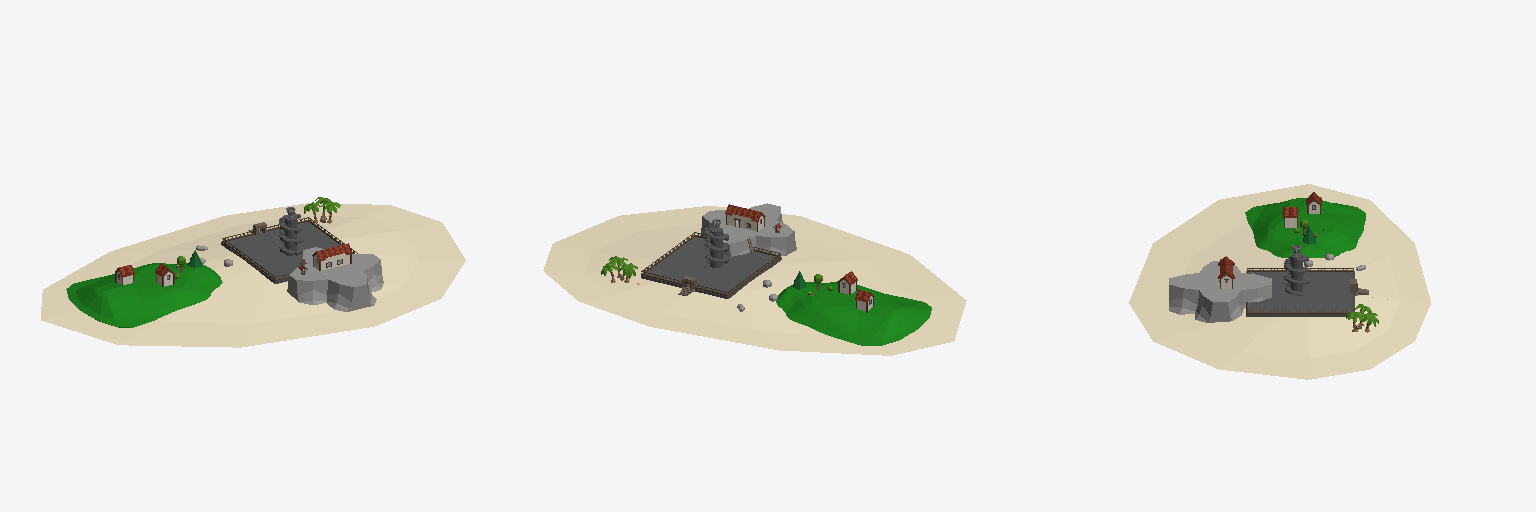
File: daltonga_base.obj
The picture shows the model from 3 angles: view 1: azimuth 30°, elevation 25°; view 2: azimuth 150°, elevation 25°; view 3: azimuth 270°, elevation 25°; orthographic projection.
Parts seen in each view (by area): view 1: Sand_Corner_Outer_3x3_9, Sand_Corner_Outer_3x3_12, Sand_Corner_Outer_3x3_4, Sand_Corner_Outer_3x3_3, struct_floor_normal_43, Hill_Side_Transition_From_Gentle_190, Cliff_Base_Corner_Inner_Lg_151, Cliff_Base_Corner_Inner_Lg_152, Hill_Side_Transition_From_Gentle_192, Hill_Corner_Outer_2x2_191, Hill_Side_Transition_From_Gentle_186, Hill_Corner_Outer_2x2_188; view 2: Sand_Corner_Outer_3x3_9, Sand_Corner_Outer_3x3_4, Sand_Corner_Outer_3x3_3, Sand_Corner_Outer_3x3_12, struct_floor_normal_43, Hill_Side_Transition_From_Gentle_186, Cliff_Base_Corner_Inner_Lg_148, Hill_Side_Transition_From_Gentle_187, Hill_Corner_Outer_2x2_188, Hill_Side_Transition_From_Gentle_190, Hill_Corner_Outer_2x2_191; view 3: Sand_Corner_Outer_3x3_12, Sand_Corner_Outer_3x3_9, Sand_Corner_Outer_3x3_3, Sand_Corner_Outer_3x3_4, struct_floor_normal_43, Cliff_Base_Corner_Inner_Lg_152, Cliff_Base_Corner_Inner_Lg_147, Hill_Side_Transition_From_Gentle_186, Hill_Side_Transition_From_Gentle_190, Hill_Side_Transition_From_Gentle_192, Hill_Side_Transition_From_Gentle_187, Cliff_Base_Corner_Inner_Lg_151.
Boxes of the visible parts, x1,y1,x2,y2 form: Sand_Corner_Outer_3x3_9: [41, 260, 374, 347]; Sand_Corner_Outer_3x3_12: [337, 222, 465, 325]; Sand_Corner_Outer_3x3_4: [41, 216, 250, 319]; Sand_Corner_Outer_3x3_3: [224, 203, 440, 238]; struct_floor_normal_43: [221, 222, 339, 283]; Hill_Side_Transition_From_Gentle_190: [104, 279, 190, 326]; Cliff_Base_Corner_Inner_Lg_151: [293, 268, 360, 311]; Cliff_Base_Corner_Inner_Lg_152: [335, 257, 383, 308]; Hill_Side_Transition_From_Gentle_192: [175, 267, 219, 305]; Hill_Corner_Outer_2x2_191: [82, 291, 133, 327]; Hill_Side_Transition_From_Gentle_186: [74, 265, 155, 290]; Hill_Corner_Outer_2x2_188: [66, 284, 102, 310]; Sand_Corner_Outer_3x3_9: [751, 216, 966, 340]; Sand_Corner_Outer_3x3_4: [649, 282, 953, 355]; Sand_Corner_Outer_3x3_3: [543, 244, 681, 325]; Sand_Corner_Outer_3x3_12: [553, 206, 799, 259]; struct_floor_normal_43: [641, 237, 781, 298]; Hill_Side_Transition_From_Gentle_186: [807, 295, 893, 345]; Cliff_Base_Corner_Inner_Lg_148: [723, 228, 790, 256]; Hill_Side_Transition_From_Gentle_187: [778, 288, 831, 325]; Hill_Corner_Outer_2x2_188: [865, 310, 916, 345]; Hill_Side_Transition_From_Gentle_190: [833, 285, 923, 309]; Hill_Corner_Outer_2x2_191: [896, 302, 931, 329]; Sand_Corner_Outer_3x3_12: [1129, 301, 1308, 379]; Sand_Corner_Outer_3x3_9: [1129, 184, 1308, 302]; Sand_Corner_Outer_3x3_3: [1309, 295, 1430, 379]; Sand_Corner_Outer_3x3_4: [1309, 184, 1430, 302]; struct_floor_normal_43: [1246, 271, 1354, 316]; Cliff_Base_Corner_Inner_Lg_152: [1169, 282, 1220, 322]; Cliff_Base_Corner_Inner_Lg_147: [1220, 282, 1271, 321]; Hill_Side_Transition_From_Gentle_186: [1305, 198, 1365, 239]; Hill_Side_Transition_From_Gentle_190: [1245, 199, 1304, 238]; Hill_Side_Transition_From_Gentle_192: [1255, 229, 1304, 254]; Hill_Side_Transition_From_Gentle_187: [1305, 229, 1357, 254]; Cliff_Base_Corner_Inner_Lg_151: [1169, 261, 1219, 281].
Bounding box in the file's own units: 74.05 × 10.72 × 48.3.